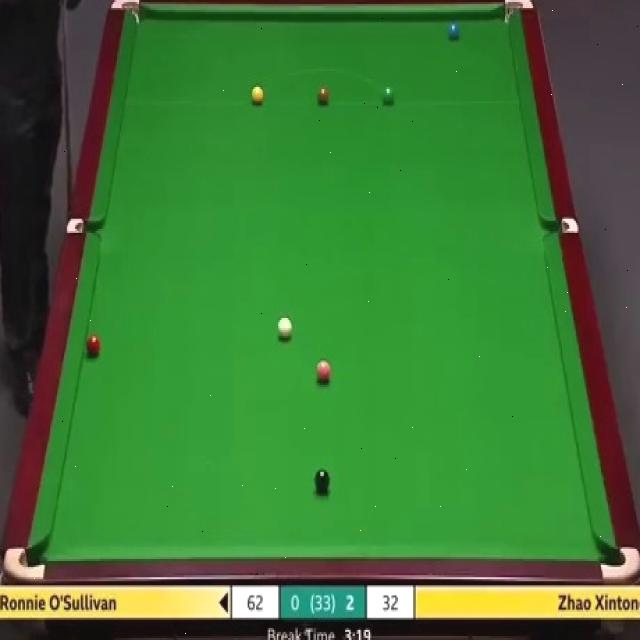black-ball: (313, 466, 331, 494)
blue-ball: (447, 21, 460, 38)
brown-ball: (316, 84, 330, 105)
green-ball: (380, 85, 395, 106)
red-ball: (85, 334, 102, 357)
white-ball: (278, 316, 294, 342)
yellow-ball: (250, 83, 264, 104)
